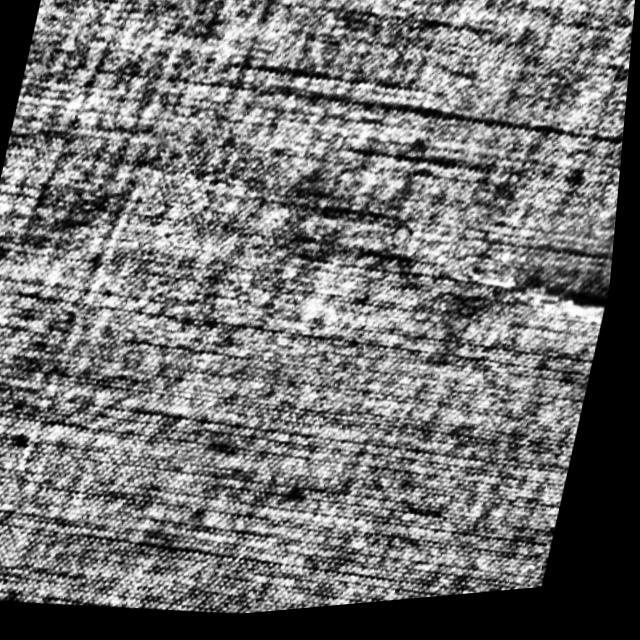Stitch: (463, 267, 618, 344)
